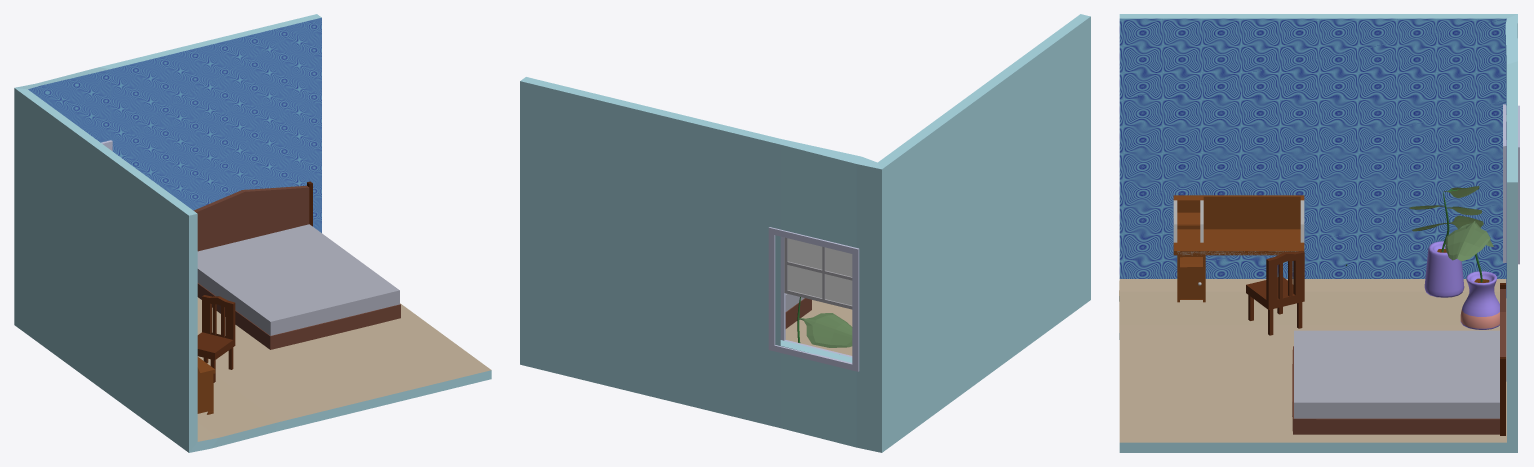
File: room.glb
3 renders of one model, left to right at view 1: azimuth 30°, elevation 25°; view 2: azimuth 150°, elevation 25°; view 3: azimuth 270°, elevation 25°, orthographic. The views are drawn at different scales.
Parts seen in each view (by area): view 1: Cube.001, Cube.005, Cube.004, Cube; view 2: Cube.001, Plane, Plane.002, BezierCurve.006, Plane.001, Cube.005; view 3: Cube.001, Cube.005, Cube, Cube.004, Cube.003, Cube.002, BezierCurve.006, BezierCurve.008, Plane.
Part boxes in pixels (<box>): Cube.001: <box>14,14,491,452</box>; Cube.005: <box>193,181,400,349</box>; Cube.004: <box>197,295,235,382</box>; Cube: <box>197,357,215,414</box>; Cube.001: <box>520,14,1090,452</box>; Plane: <box>768,227,859,371</box>; Plane.002: <box>788,238,852,305</box>; BezierCurve.006: <box>797,297,852,347</box>; Plane.001: <box>784,237,852,309</box>; Cube.005: <box>785,293,811,328</box>; Cube.001: <box>1119,14,1517,452</box>; Cube.005: <box>1292,283,1505,435</box>; Cube: <box>1173,195,1304,302</box>; Cube.004: <box>1246,250,1304,335</box>; Cube.003: <box>1460,271,1499,329</box>; Cube.002: <box>1424,241,1464,297</box>; BezierCurve.006: <box>1445,220,1493,282</box>; BezierCurve.008: <box>1409,186,1483,252</box>; Plane: <box>1503,104,1519,264</box>.
Size of the model in its own units: 15.56 by 11.75 by 15.65.
Materials: 18 (1 with a texture image).
